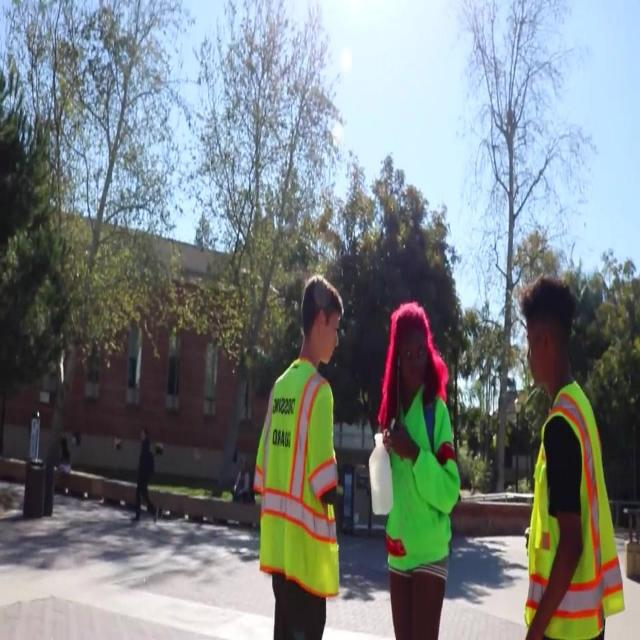Reflective-Jacket: (516, 374, 630, 640), (250, 354, 348, 604)
